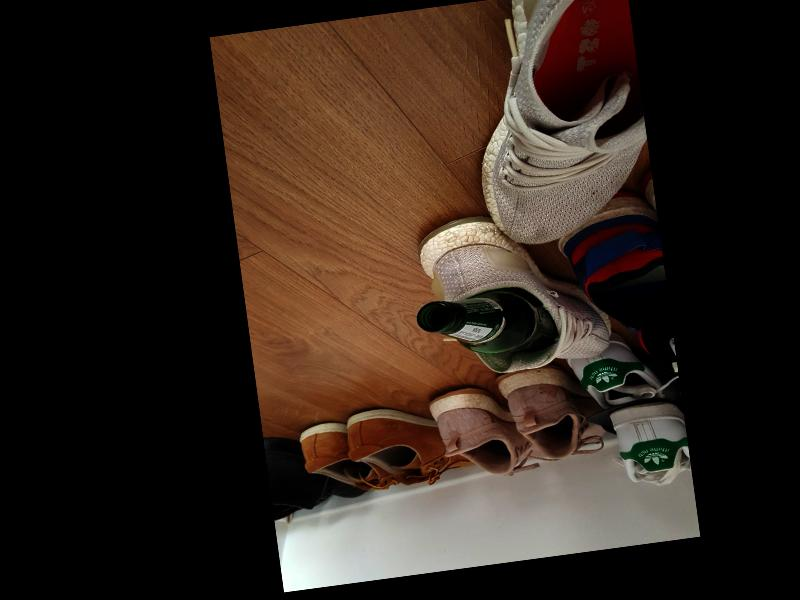Beer: (414, 284, 558, 366)
